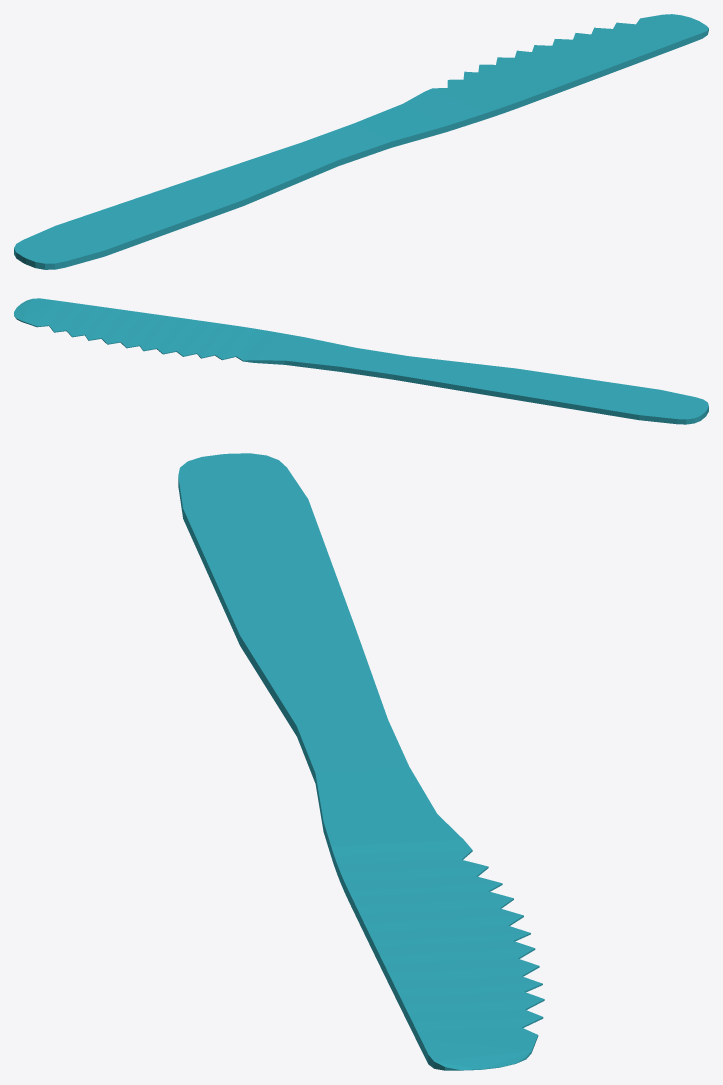
The model's file is 0db9dde8-2175-4e1e-8eb5-afe69d0418d8.glb.
3 views of the same model, one above another, from view 1: azimuth 30°, elevation 25°; view 2: azimuth 150°, elevation 25°; view 3: azimuth 270°, elevation 25° (orthographic). The views are drawn at different scales.
Parts seen in each view (by area): view 1: Box001; view 2: Box001; view 3: Box001.
Boxes of the visible parts, x1,y1,x2,y2 form: Box001: [14, 14, 708, 269]; Box001: [14, 298, 708, 424]; Box001: [178, 453, 544, 1070].
Size of the model in its own units: 1339076 by 10512 by 338931.
